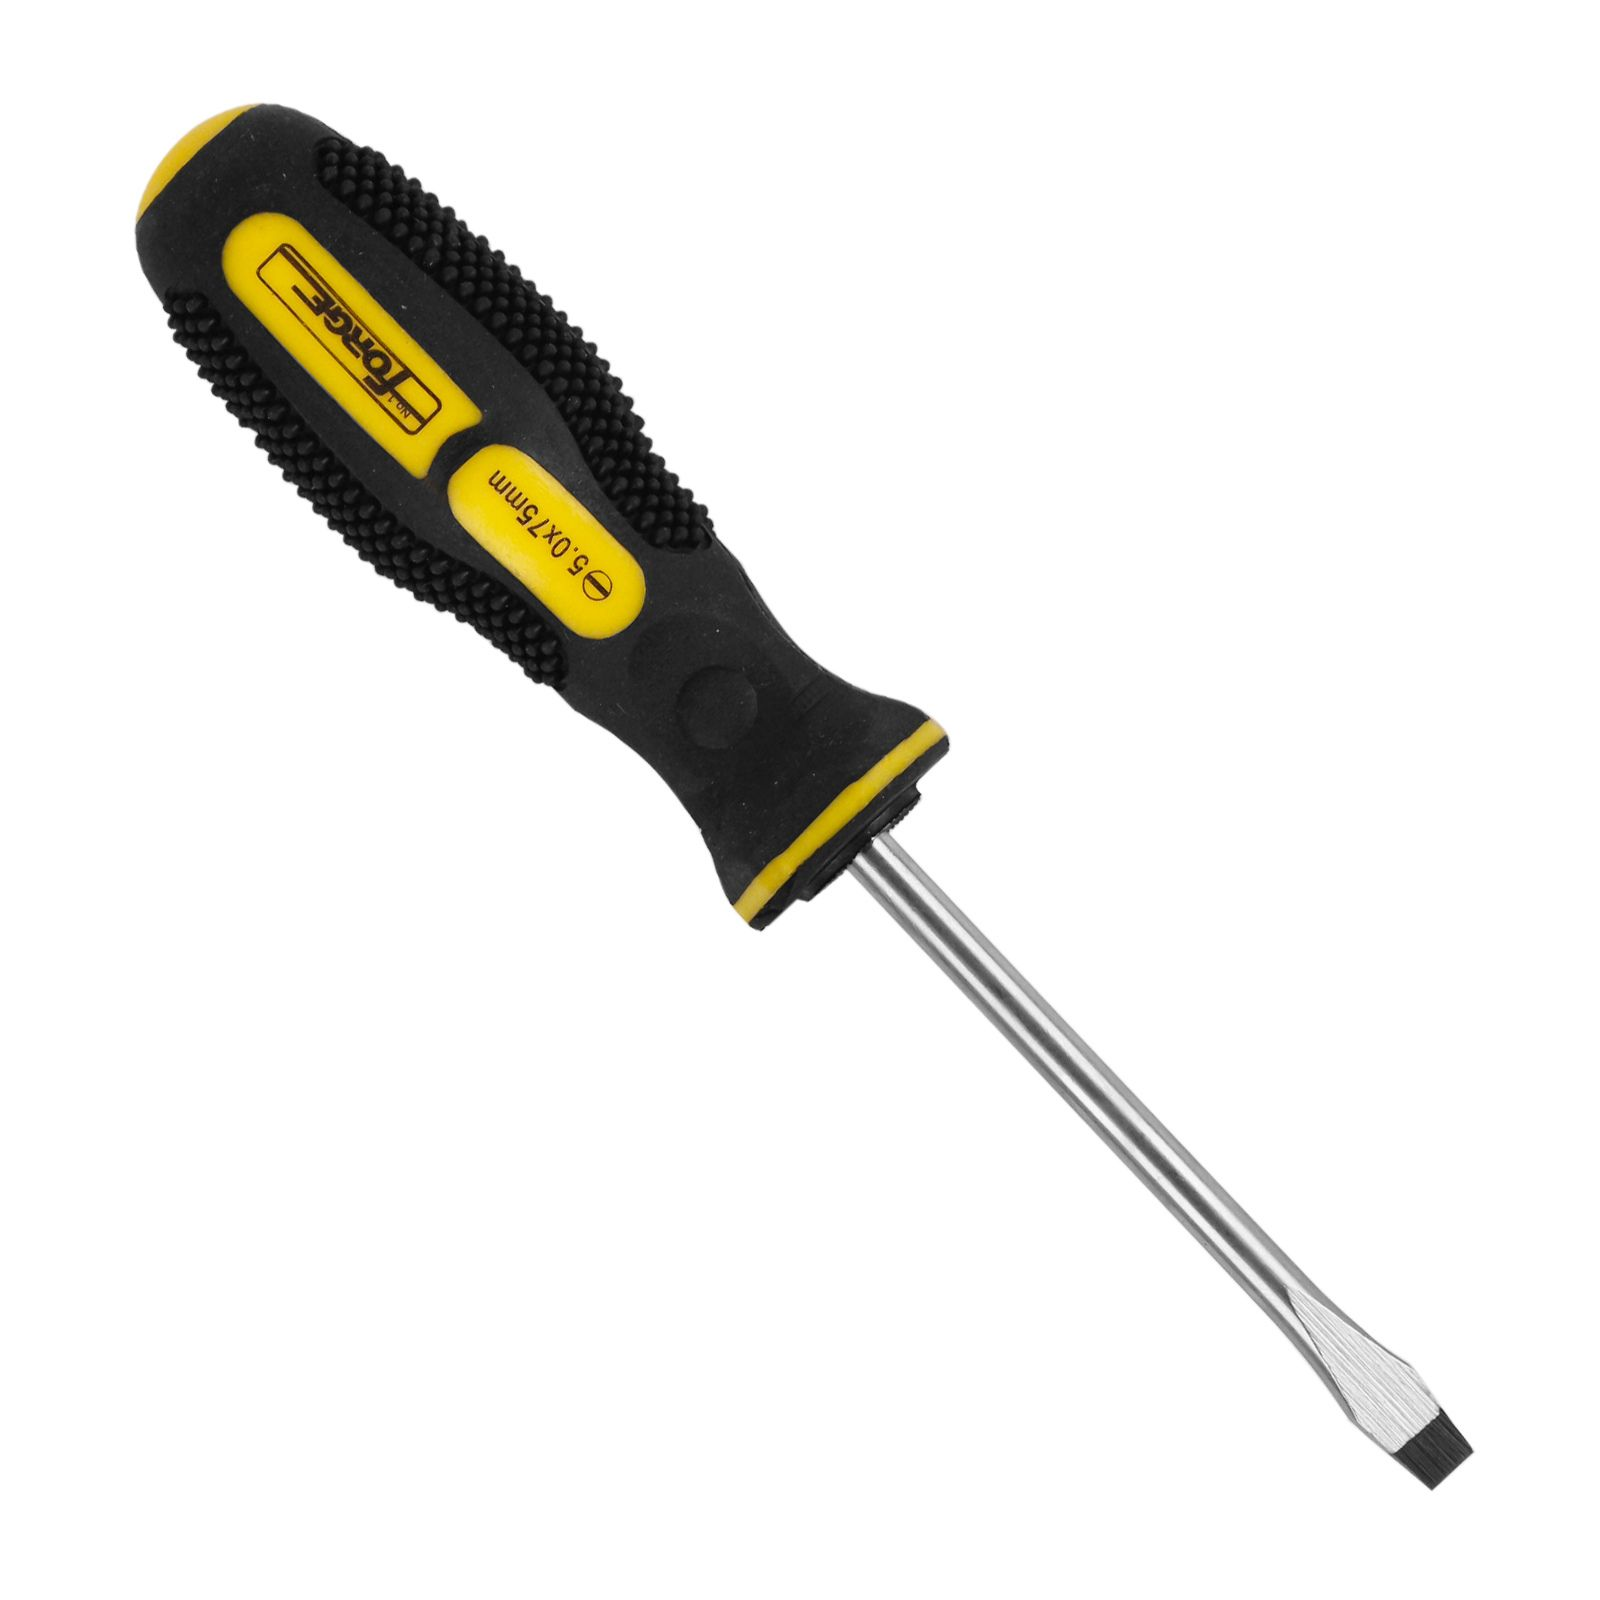screwdriver: (133, 92, 1475, 1500)
